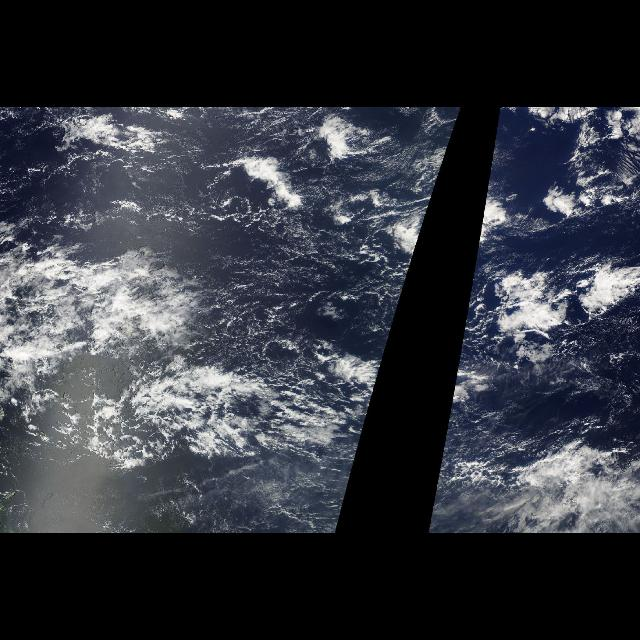Fish: (61, 360, 382, 470)
Gravel: (199, 151, 441, 367)
